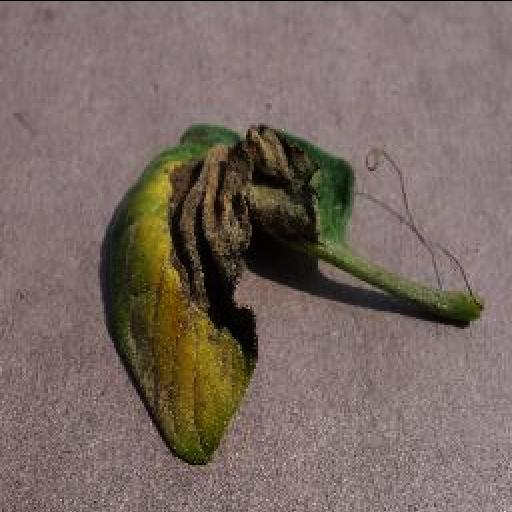disease_tomato: (104, 120, 354, 460)
